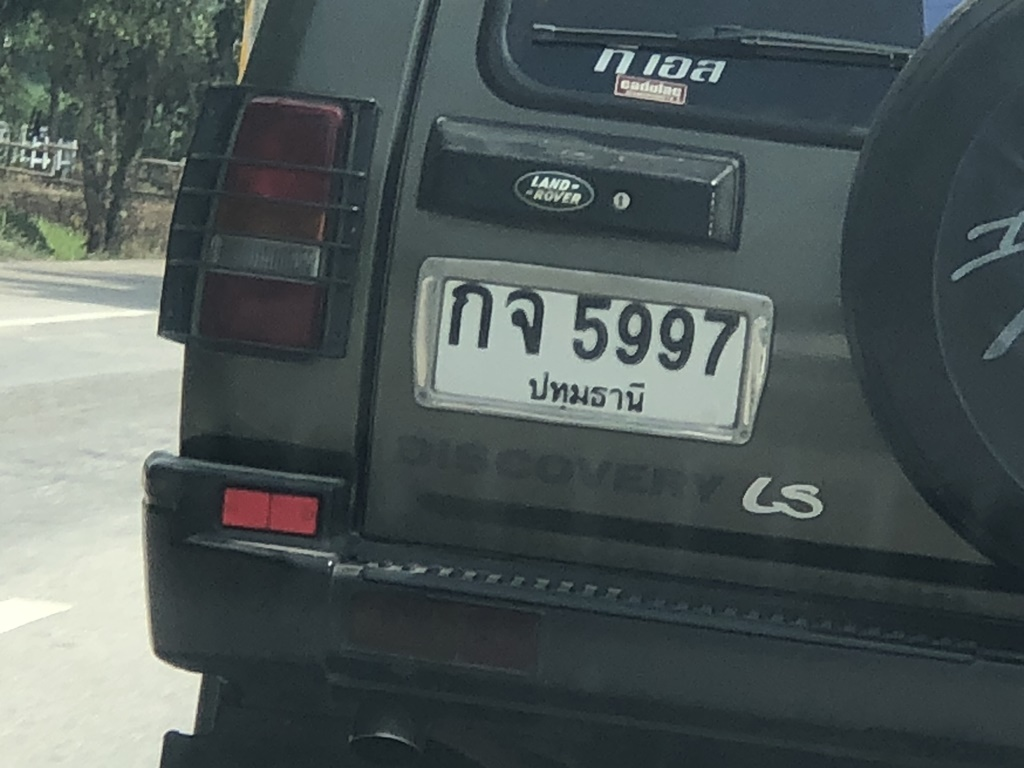five: (574, 279, 614, 376)
nine: (609, 287, 658, 376), (652, 298, 700, 375)
seven: (694, 296, 746, 384)
